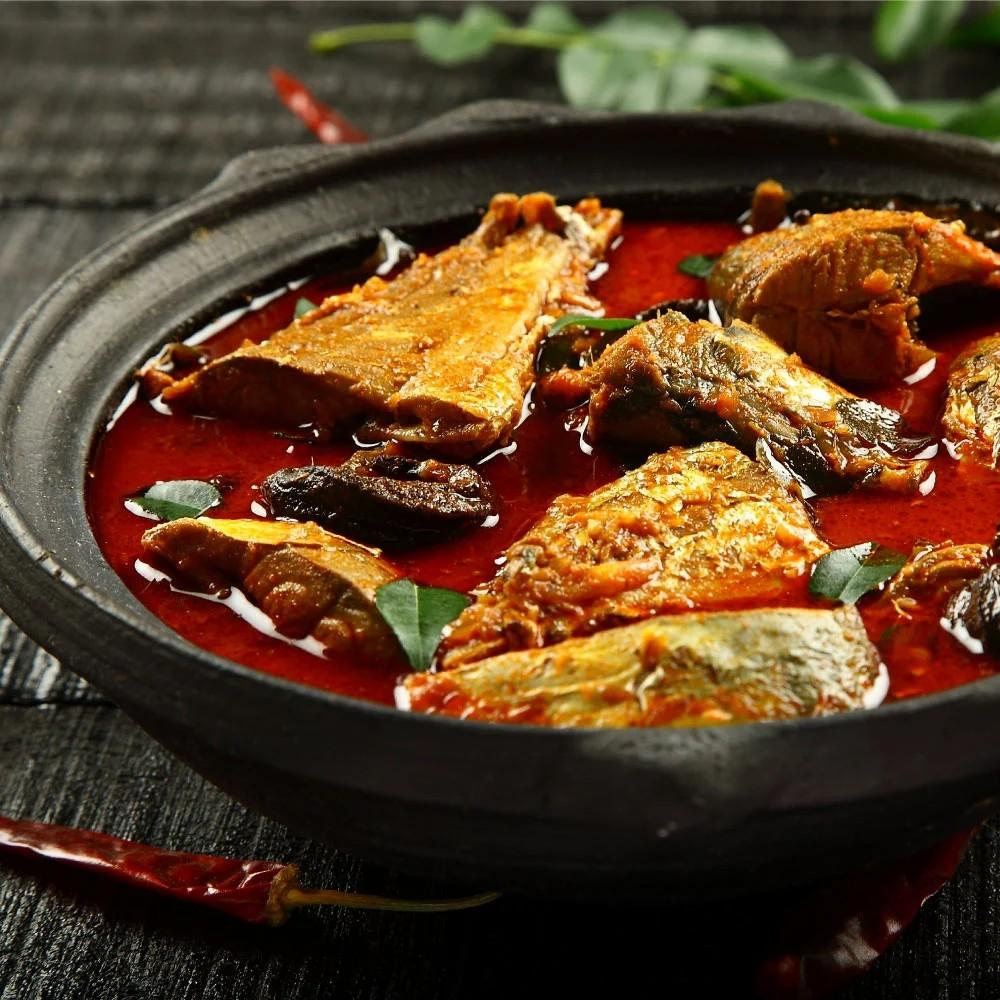FishCurry: (87, 194, 1000, 733)
